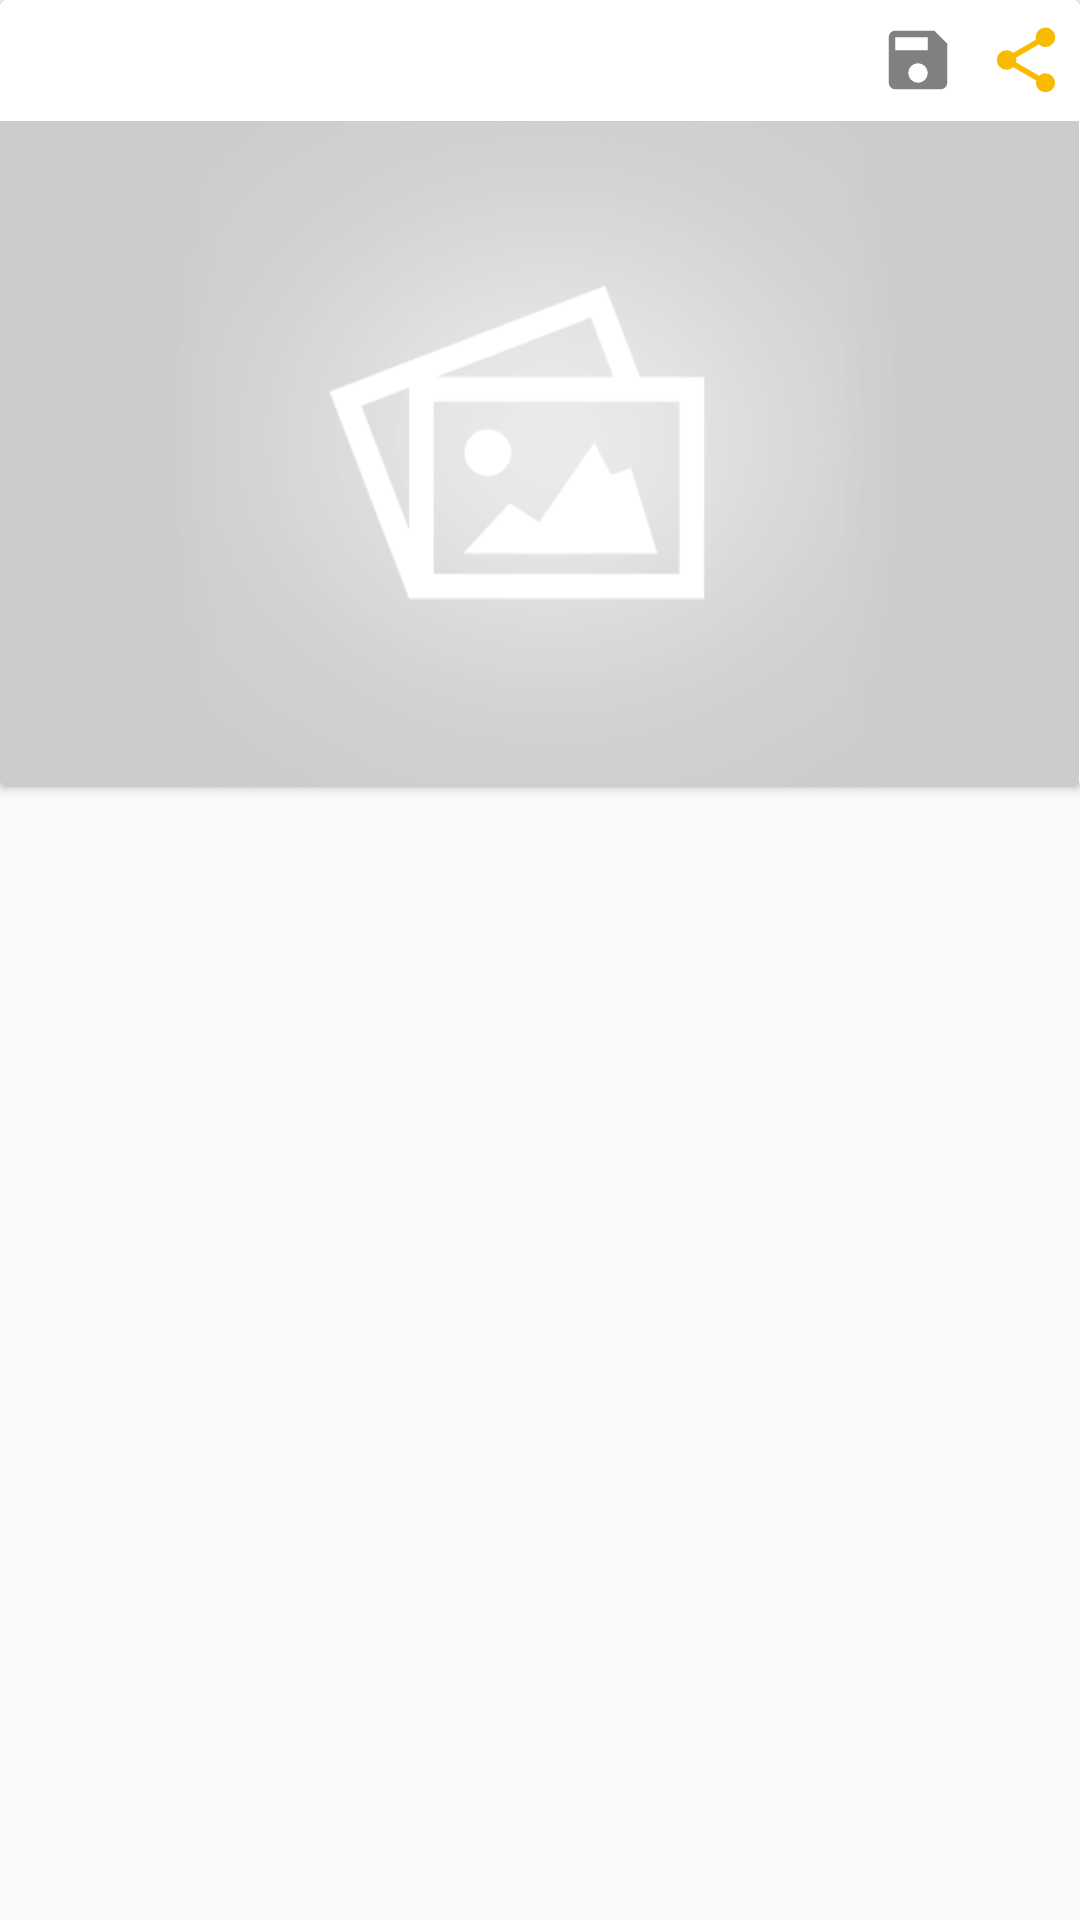

Where icons sit on this 1080x1920 app screen, as {"left": x1, "top": y1, "right": x2, "bottom": y2}:
content save: {"left": 888, "top": 30, "right": 948, "bottom": 90}
share variant: {"left": 996, "top": 27, "right": 1056, "bottom": 93}
